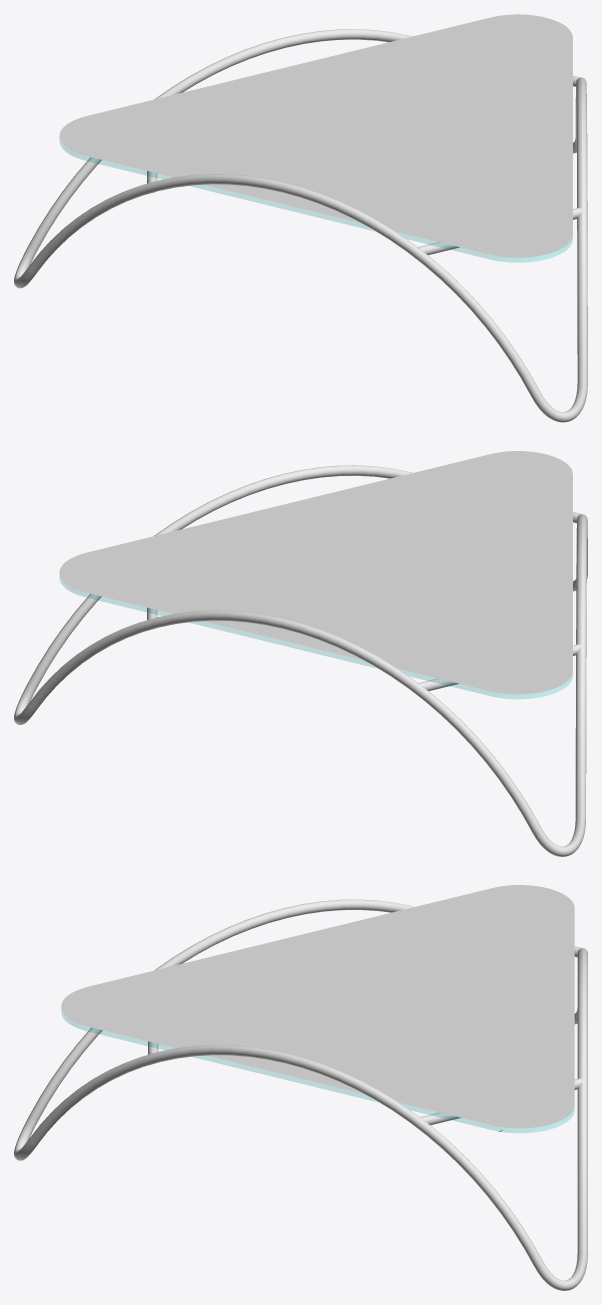
File: DeepWave1_recolor.glb
3 renders of one model, top to bottom at view 1: azimuth 30°, elevation 25°; view 2: azimuth 150°, elevation 25°; view 3: azimuth 270°, elevation 25°, orthographic.
Visible parts, largest first — view 1: RayCoffeeTable_Top.001, RayCoffeeTable_Leg, RayCoffeeTable_Top; view 2: RayCoffeeTable_Top.001, RayCoffeeTable_Leg, RayCoffeeTable_Top; view 3: RayCoffeeTable_Top.001, RayCoffeeTable_Leg, RayCoffeeTable_Top.
Boxes of the visible parts, left/top/right/bottom form: RayCoffeeTable_Top.001: left=59, top=14, right=572, bottom=257; RayCoffeeTable_Leg: left=14, top=29, right=587, bottom=422; RayCoffeeTable_Top: left=59, top=139, right=572, bottom=262; RayCoffeeTable_Top.001: left=59, top=451, right=572, bottom=694; RayCoffeeTable_Leg: left=14, top=465, right=587, bottom=856; RayCoffeeTable_Top: left=59, top=576, right=572, bottom=698; RayCoffeeTable_Top.001: left=61, top=885, right=574, bottom=1131; RayCoffeeTable_Leg: left=14, top=899, right=587, bottom=1290; RayCoffeeTable_Top: left=61, top=1010, right=574, bottom=1132.
Bounding box in the file's own units: 1.18 × 0.3541 × 1.04.
